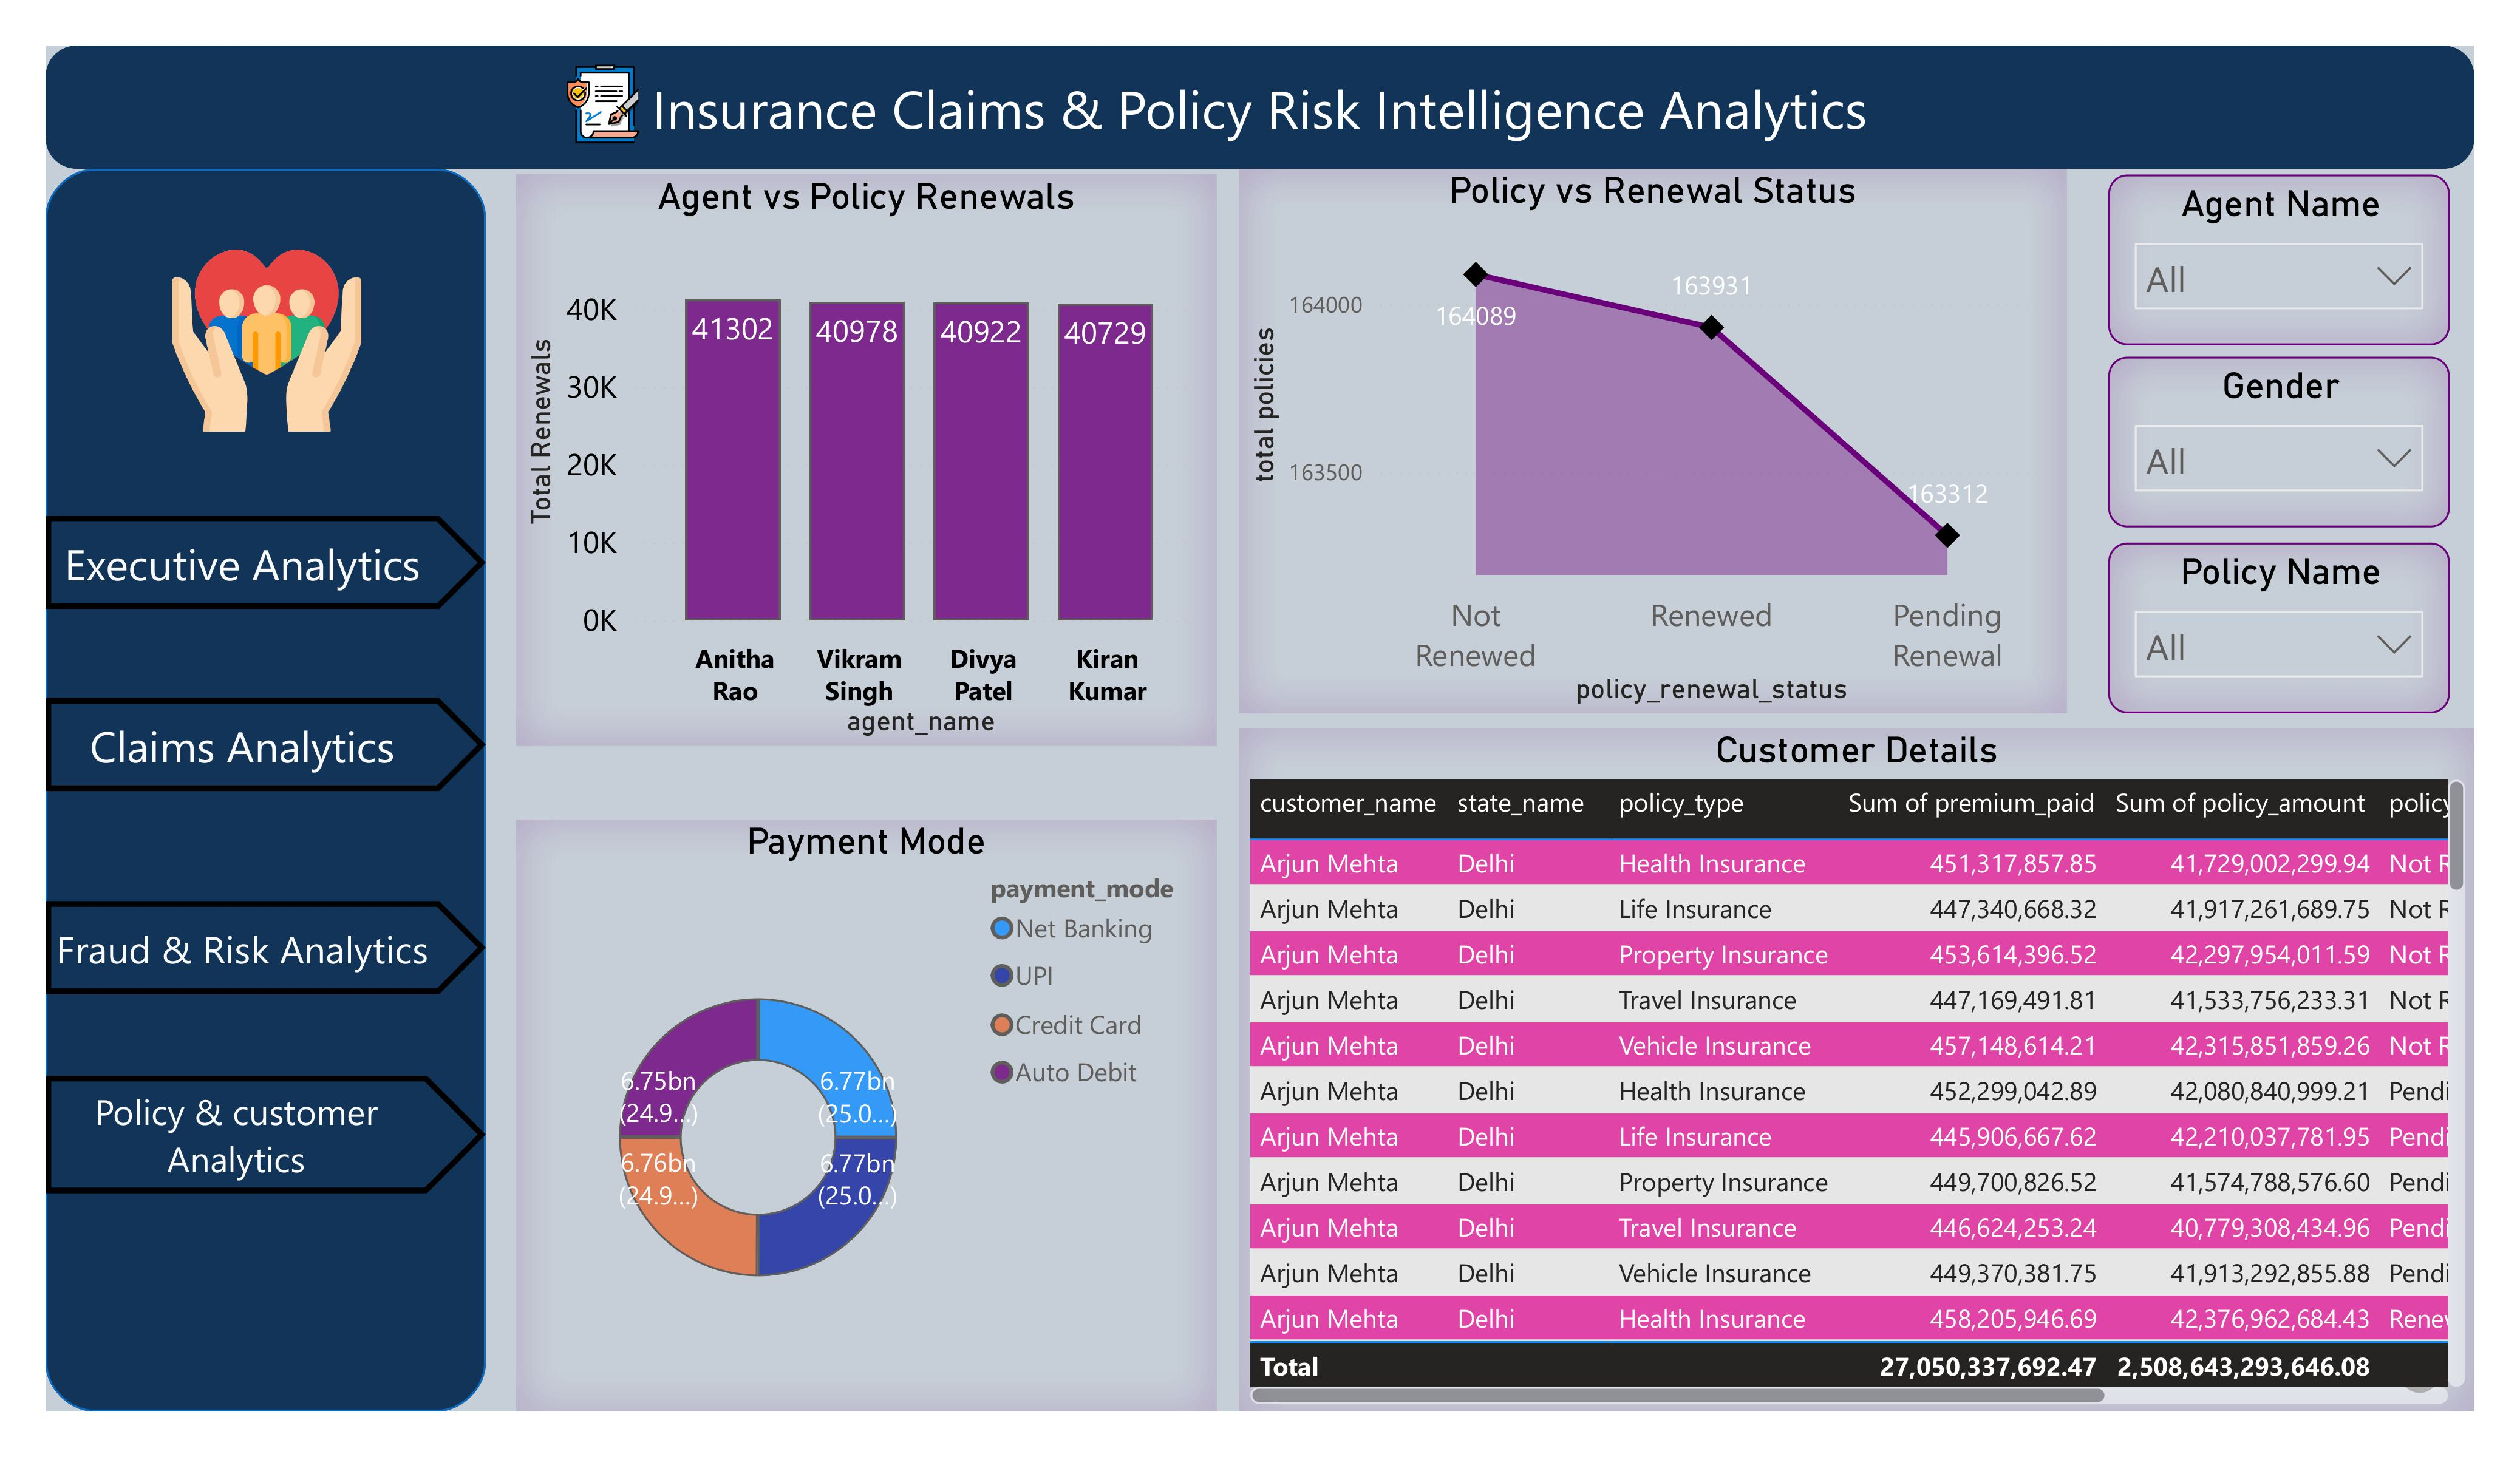

This screenshot's page, from the dashboard's own definition file:
{"tool":"powerbi","page":{"name":"Policy& customer","canvas":[1280,720],"ordinal":4},"visuals":[{"type":"shape","box":[0,0,1280.2,64.8],"z":0},{"type":"shape","box":[0,64.8,231.8,655.2],"z":1000},{"type":"actionButton","box":[0,247.7,231.8,49],"z":2000},{"type":"actionButton","box":[0,344.2,231.8,49],"z":3000},{"type":"actionButton","box":[0,450.7,231.8,49],"z":4000},{"type":"actionButton","box":[0,542.9,231.8,61.9],"z":5000},{"type":"image","box":[33.1,103.7,167,103.7],"z":6000},{"type":"image","box":[270.7,7.2,47.5,49],"z":7000},{"type":"actionButton","box":[1231.2,679.7,49,40.3],"z":8000},{"type":"columnChart","title":"Agent vs Policy Renewals","fields":{"Category":["dim_agent.agent_name"],"Y":["Measures (3).Total Renewals"]},"box":[248.4,68.3,369,300.7],"z":9000},{"type":"donutChart","title":"Payment Mode","fields":{"Category":["fact_insurance_claims.payment_mode"],"Y":["Measures (3).Total Premium"]},"box":[248.4,408.3,369,312.4],"z":10000},{"type":"areaChart","title":"Policy vs Renewal Status","fields":{"Category":["fact_insurance_claims.policy_renewal_status"],"Y":["Measures (3).total policies"]},"box":[629.1,65.4,435.9,286.2],"z":11000},{"type":"tableEx","title":"Customer Details","fields":{"Values":["dim_customer.customer_name","dim_customer.state_name","dim_policy.policy_type","Sum(fact_insurance_claims.premium_paid)","Sum(fact_insurance_claims.policy_amount)","fact_insurance_claims.policy_renewal_status","Sum(fact_insurance_claims.fraud_risk_score)"]},"box":[629.1,360.3,650.9,360.3],"z":12000},{"type":"slicer","title":"Agent Name","fields":{"Values":["dim_agent.agent_name"]},"box":[1086.8,68.3,180.2,90.1],"z":13000},{"type":"slicer","title":"Gender","fields":{"Values":["dim_customer.gender"]},"box":[1086.8,164.2,180.2,90.1],"z":14000},{"type":"slicer","title":"Policy Name","fields":{"Values":["dim_policy.policy_type"]},"box":[1086.8,261.5,180.2,90.1],"z":15000}]}

Visuals, with their boxes on the page's 1280x720 design canvas (x1, y1, x2, y2). These are canvas units, not pixel positions in the 2520x1457 screenshot, which may show the page scaled, cropped or inside an application window:
shape: 0, 0, 1280, 65
shape: 0, 65, 232, 720
actionButton: 0, 248, 232, 297
actionButton: 0, 344, 232, 393
actionButton: 0, 451, 232, 500
actionButton: 0, 543, 232, 605
image: 33, 104, 200, 207
image: 271, 7, 318, 56
actionButton: 1231, 680, 1280, 720
"Agent vs Policy Renewals" columnChart: 248, 68, 617, 369
"Payment Mode" donutChart: 248, 408, 617, 721
"Policy vs Renewal Status" areaChart: 629, 65, 1065, 352
"Customer Details" tableEx: 629, 360, 1280, 721
"Agent Name" slicer: 1087, 68, 1267, 158
"Gender" slicer: 1087, 164, 1267, 254
"Policy Name" slicer: 1087, 262, 1267, 352
